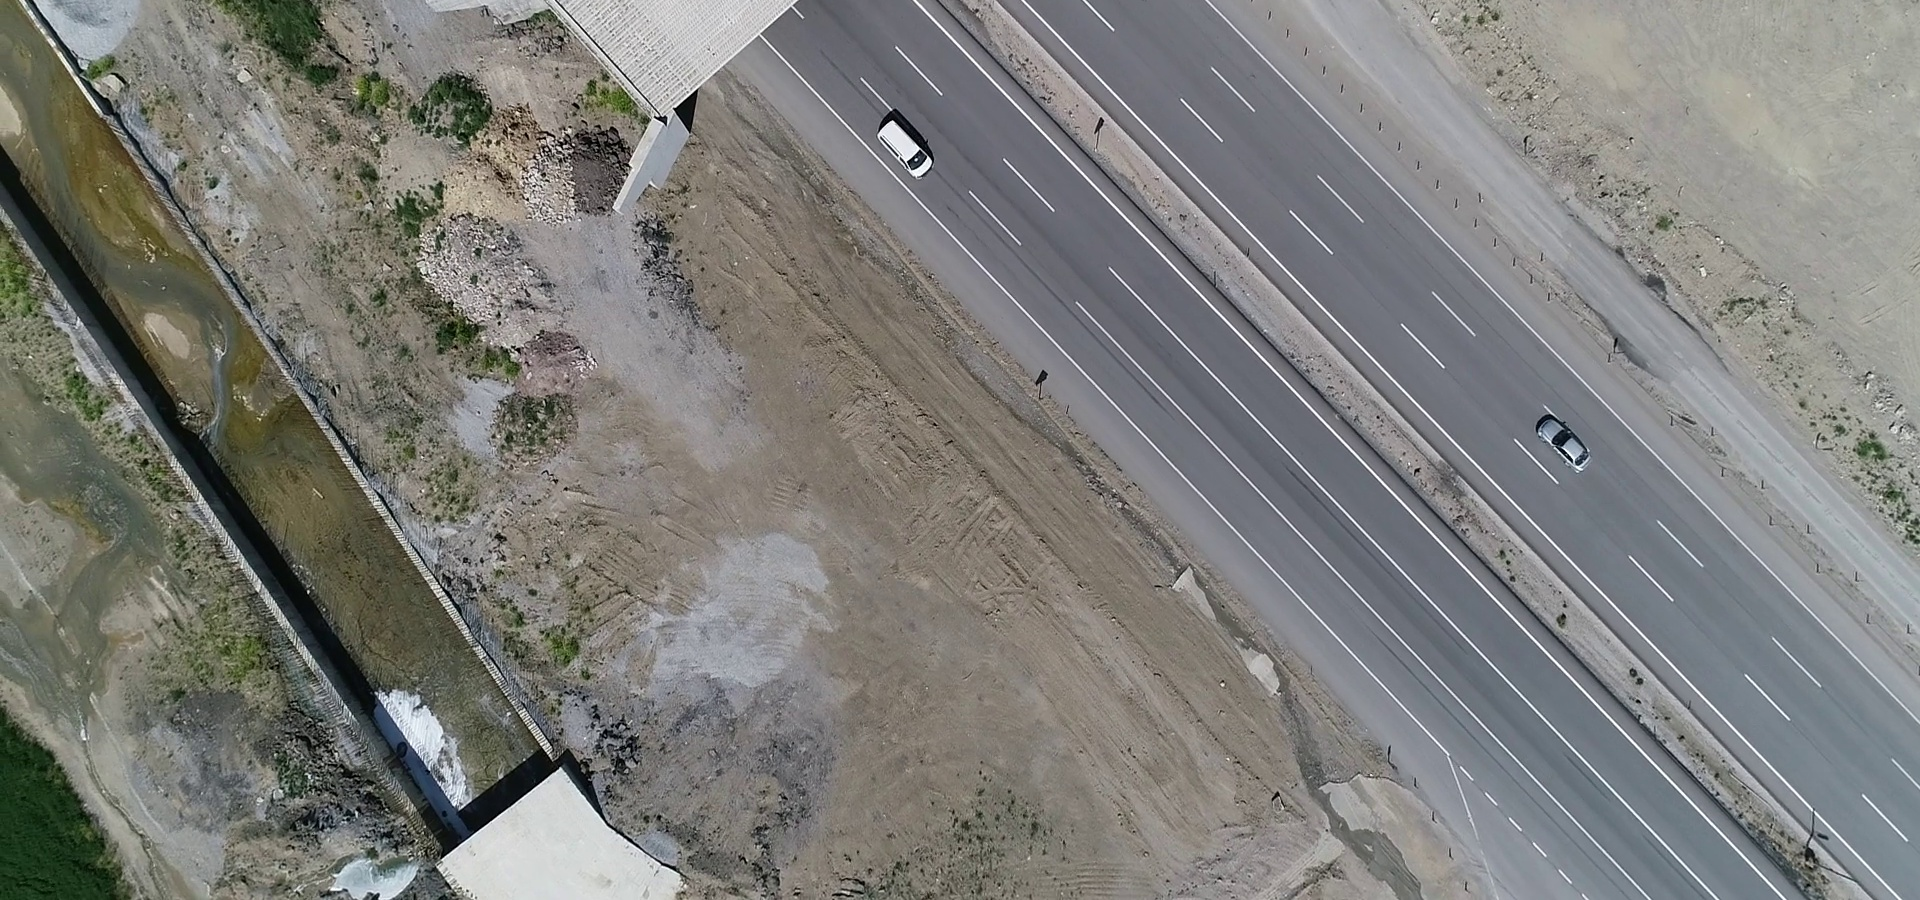arac: (871, 113, 942, 181), (1526, 408, 1594, 474)
